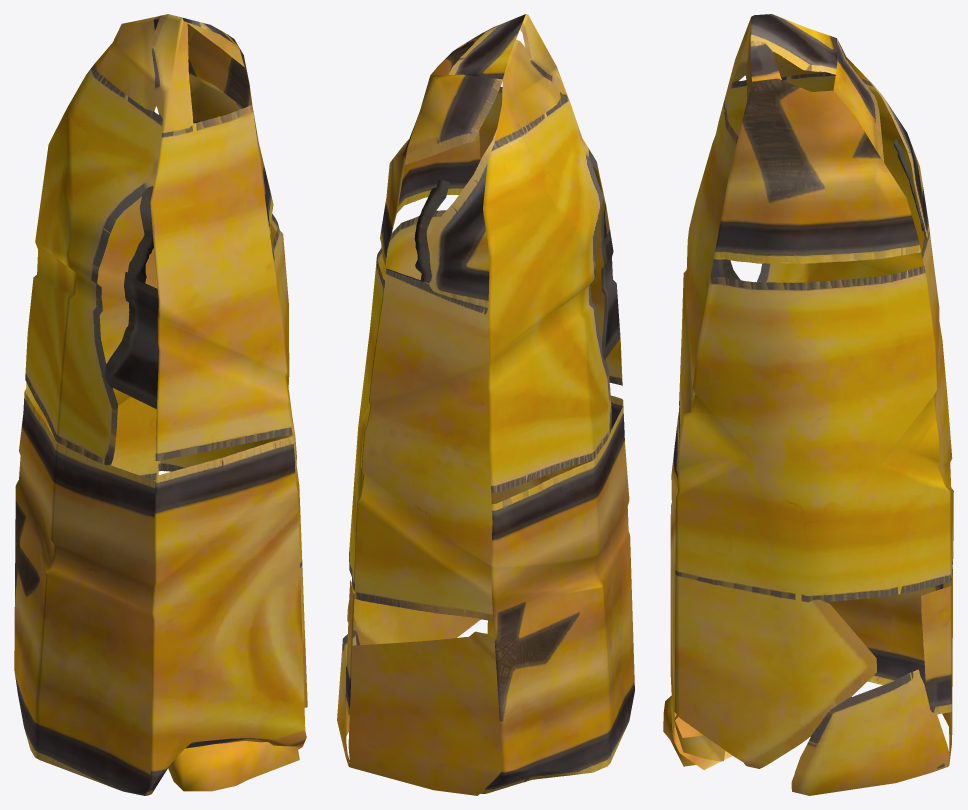
3 views of the same model, side by side, from view 1: azimuth 30°, elevation 25°; view 2: azimuth 150°, elevation 25°; view 3: azimuth 270°, elevation 25° (orthographic). The views are drawn at different scales.
Visible parts, largest first — view 1: SM_Wall_Vertical_Banner_Bandos_02v1_LOD0; view 2: SM_Wall_Vertical_Banner_Bandos_02v1_LOD0; view 3: SM_Wall_Vertical_Banner_Bandos_02v1_LOD0.
Part boxes in pixels (x1,y1,x2,y2): SM_Wall_Vertical_Banner_Bandos_02v1_LOD0: [14, 14, 307, 795]; SM_Wall_Vertical_Banner_Bandos_02v1_LOD0: [337, 14, 634, 795]; SM_Wall_Vertical_Banner_Bandos_02v1_LOD0: [663, 14, 953, 795].
Bounding box in the file's own units: 1.38 × 3.7 × 1.36.
